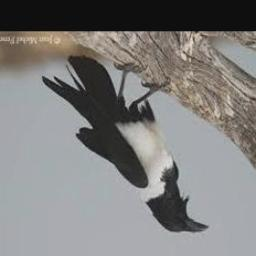Crow: (41, 54, 210, 234)
